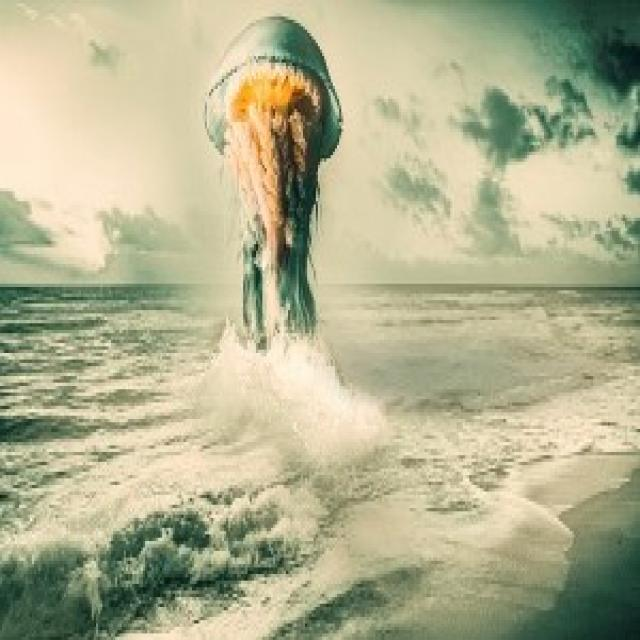Jellyfish: (195, 11, 365, 352)
